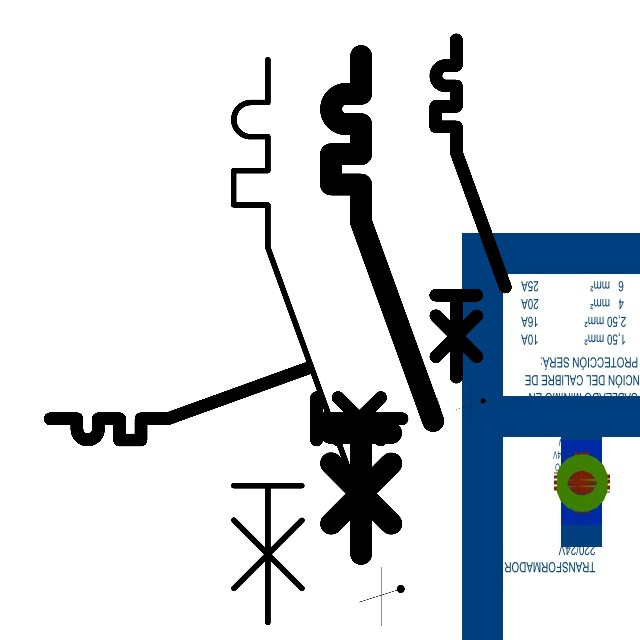interruptor_termomagnetico: (219, 45, 364, 637), (318, 43, 446, 567), (41, 359, 411, 449), (427, 31, 514, 386)
